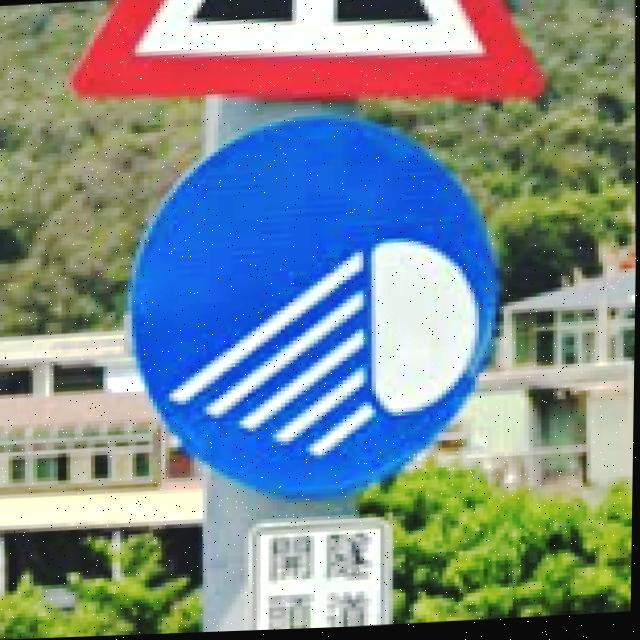lightson: (133, 124, 495, 497)
